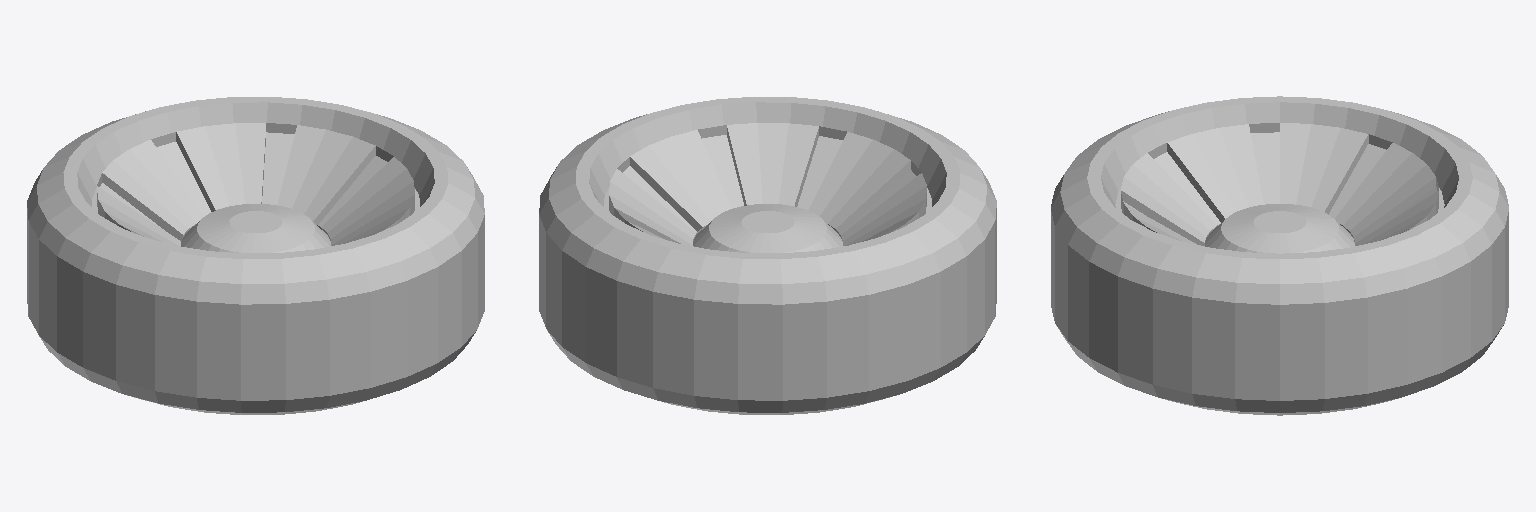
The model's file is wheel.obj.
3 renders of one model, left to right at view 1: azimuth 30°, elevation 25°; view 2: azimuth 150°, elevation 25°; view 3: azimuth 270°, elevation 25°, orthographic.
Visible parts, largest first — view 1: wheel_FL_Mesh_17; view 2: wheel_FL_Mesh_17; view 3: wheel_FL_Mesh_17.
Part boxes in pixels (left/top/right/bottom): wheel_FL_Mesh_17: left=27, top=97, right=484, bottom=414; wheel_FL_Mesh_17: left=539, top=97, right=996, bottom=414; wheel_FL_Mesh_17: left=1051, top=96, right=1508, bottom=415.
Bounding box in the file's own units: 0.6514 × 0.2445 × 0.6514.